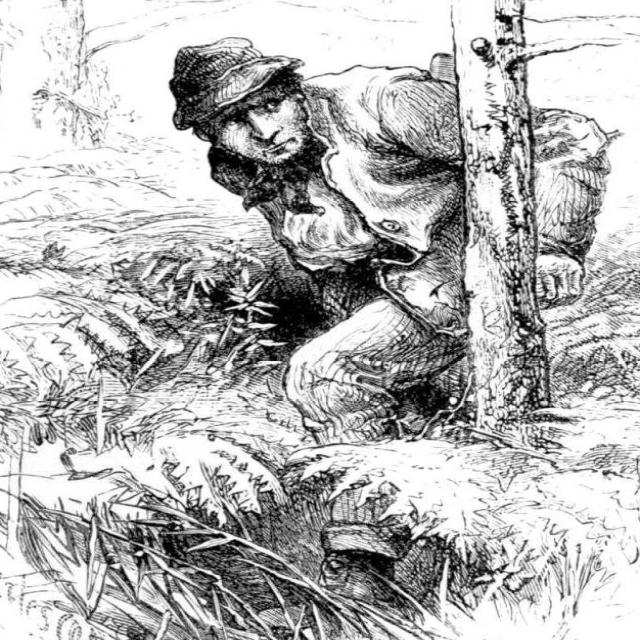poacher: (111, 24, 544, 409)
